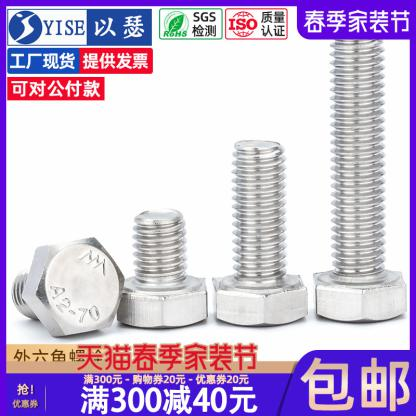FOD: (312, 28, 407, 326), (210, 137, 309, 330), (110, 207, 210, 332), (8, 233, 125, 338)
